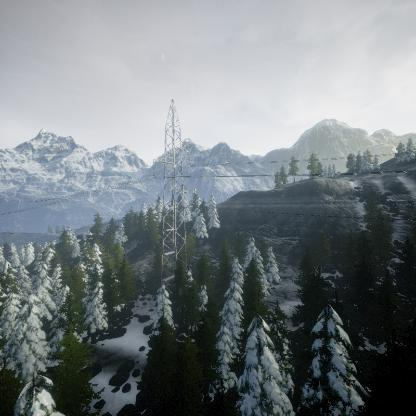tower: (150, 97, 196, 274)
